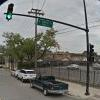Traffic light: (3, 1, 21, 33)
